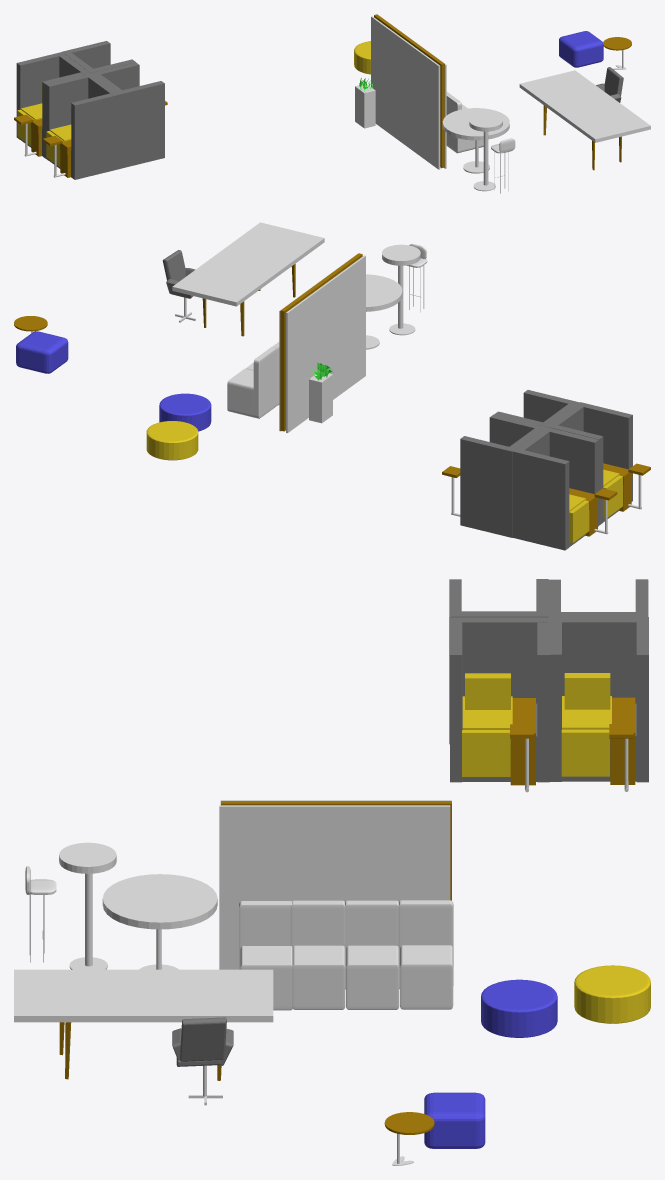
Rendered from cubicChair.fbx.
3 views of the same model, one above another, from view 1: azimuth 30°, elevation 25°; view 2: azimuth 150°, elevation 25°; view 3: azimuth 270°, elevation 25° (orthographic). The views are drawn at different scales.
Parts seen in each view (by area): view 1: Cylinder.002, Cube.003, Cube, Cylinder.003, Cube.014, Cylinder.006, Cube.002, Cube.007, Cube.004, Cube.015, Cylinder.001, Cylinder.005 (+1 smaller); view 2: Cylinder.002, Cube.003, Cube, Cube.004, Cylinder.001, Cube.014, Cylinder, Cylinder.003, Cylinder.006, Cube.002, Cube.007, Cube.015; view 3: Cylinder.002, Cube.005, Cube.004, Cube, Cylinder.003, Cylinder.001, Cylinder, Cube.014, Cylinder.006, Cube.015, Cube.002, Cylinder.005.
Boxes of the visible parts, x1=… form: Cylinder.002: x1=14, y1=41, x2=167, y2=179; Cube.003: x1=371, y1=16, x2=440, y2=169; Cube: x1=519, y1=70, x2=650, y2=142; Cylinder.003: x1=442, y1=108, x2=509, y2=173; Cube.014: x1=559, y1=31, x2=603, y2=67; Cylinder.006: x1=469, y1=113, x2=502, y2=191; Cube.002: x1=374, y1=14, x2=444, y2=168; Cube.007: x1=355, y1=84, x2=375, y2=128; Cube.004: x1=446, y1=91, x2=483, y2=153; Cube.015: x1=596, y1=67, x2=623, y2=102; Cylinder.001: x1=354, y1=41, x2=370, y2=74; Cylinder.005: x1=603, y1=37, x2=631, y2=69; Cylinder.002: x1=442, y1=390, x2=650, y2=550; Cube.003: x1=286, y1=255, x2=365, y2=433; Cube: x1=172, y1=222, x2=324, y2=306; Cube.004: x1=227, y1=342, x2=279, y2=418; Cylinder.001: x1=146, y1=421, x2=198, y2=460; Cube.014: x1=16, y1=331, x2=68, y2=373; Cylinder: x1=159, y1=393, x2=211, y2=431; Cylinder.003: x1=366, y1=274, x2=402, y2=349; Cylinder.006: x1=382, y1=244, x2=420, y2=335; Cube.002: x1=280, y1=253, x2=362, y2=431; Cube.007: x1=309, y1=373, x2=332, y2=423; Cube.015: x1=162, y1=250, x2=195, y2=298; Cylinder.002: x1=449, y1=579, x2=648, y2=792; Cube.005: x1=219, y1=805, x2=450, y2=969; Cube.004: x1=239, y1=900, x2=453, y2=1010; Cube: x1=14, y1=969, x2=273, y2=1022; Cylinder.003: x1=102, y1=874, x2=217, y2=969; Cylinder.001: x1=574, y1=965, x2=650, y2=1023; Cylinder: x1=481, y1=979, x2=557, y2=1037; Cube.014: x1=424, y1=1092, x2=485, y2=1148; Cylinder.006: x1=59, y1=842, x2=116, y2=969; Cube.015: x1=172, y1=1017, x2=233, y2=1066; Cube.002: x1=221, y1=801, x2=451, y2=900; Cylinder.005: x1=384, y1=1112, x2=434, y2=1165.
Size of the model in its own units: 2907 by 516 by 1664.
